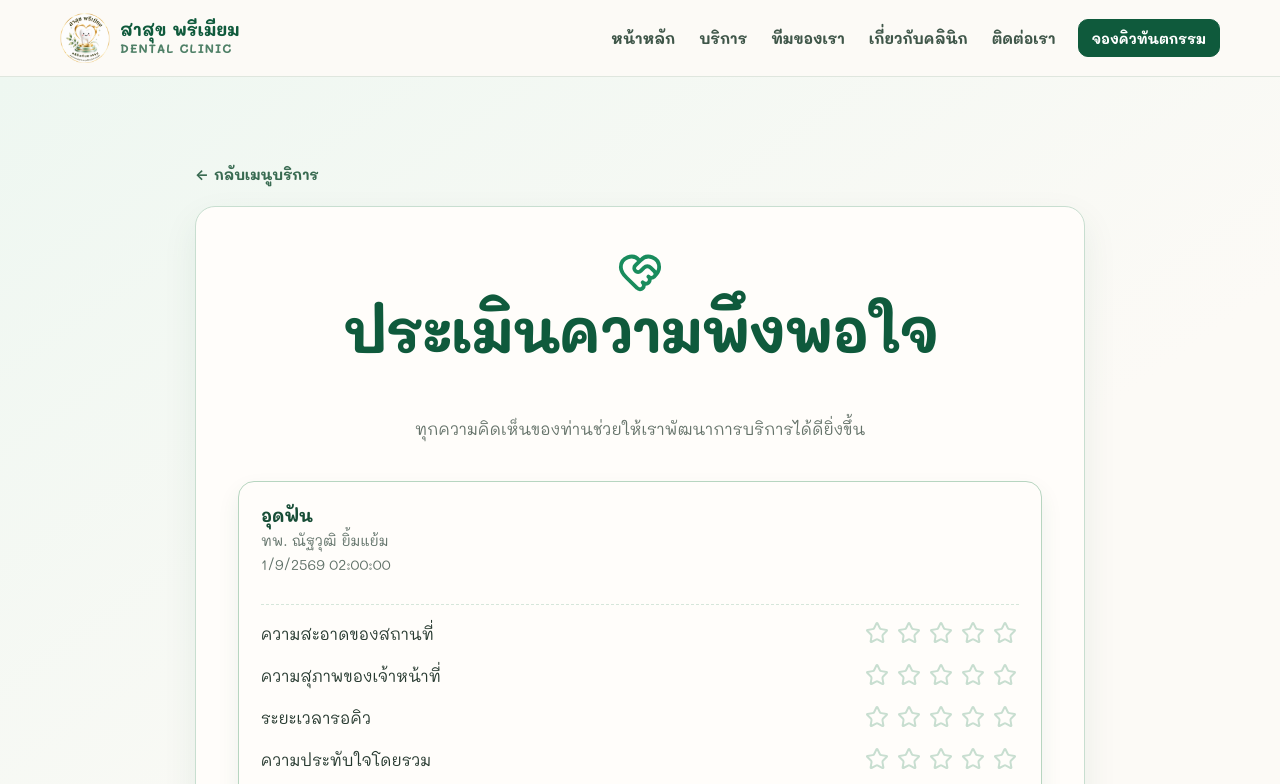
Test: clinic SPA › satisfaction survey (/patient/satisfaction) › lets a patient rate a dentist-bound visit including the dentist question, then shows it read-only
expect the text "อุดฟัน" is shown: met, box [261,504,313,526]
expect the button named "ดาว" is shown: met, box [863,619,891,647]
Click the button named "ความสะอาดของสถานที่ 4 ดาว".
click(973, 633)  # box [959,619,987,647]
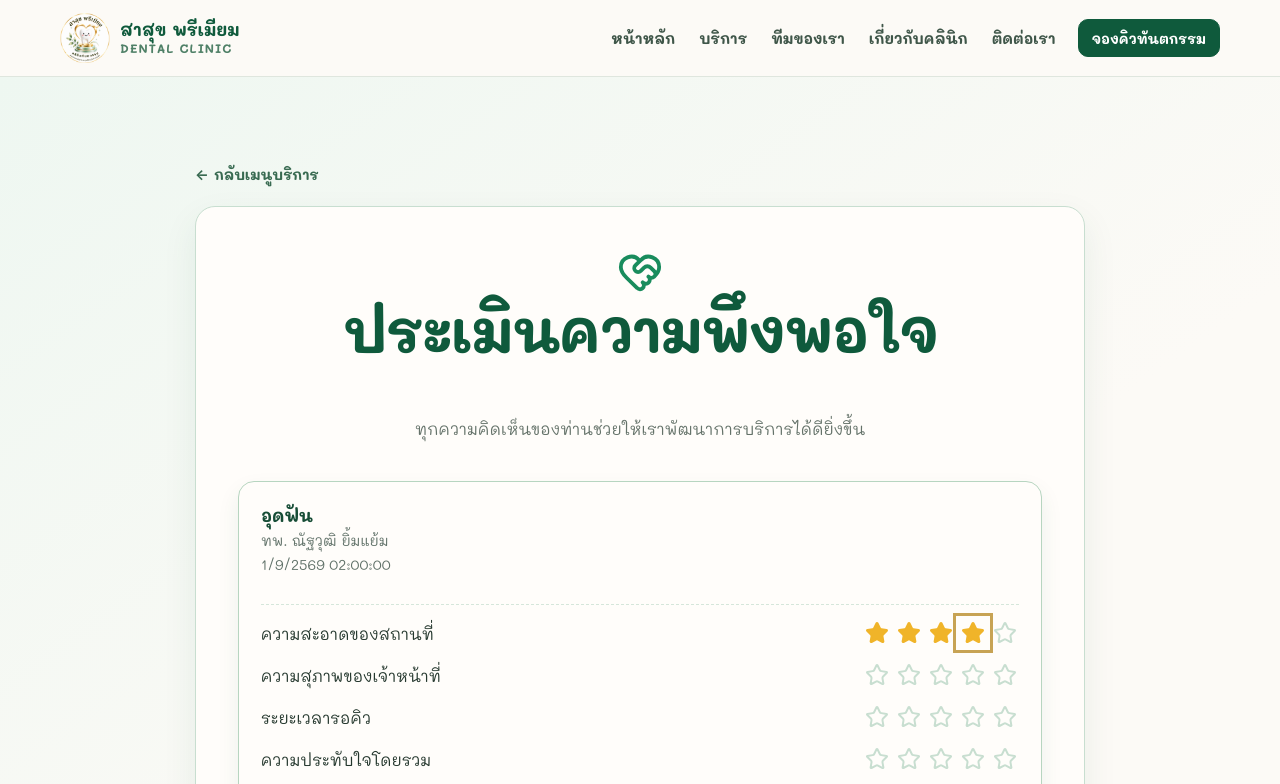
Click the button named "ความสุภาพของเจ้าหน้าที่ 5 ดาว".
click(1005, 675)  # box [991,661,1019,689]
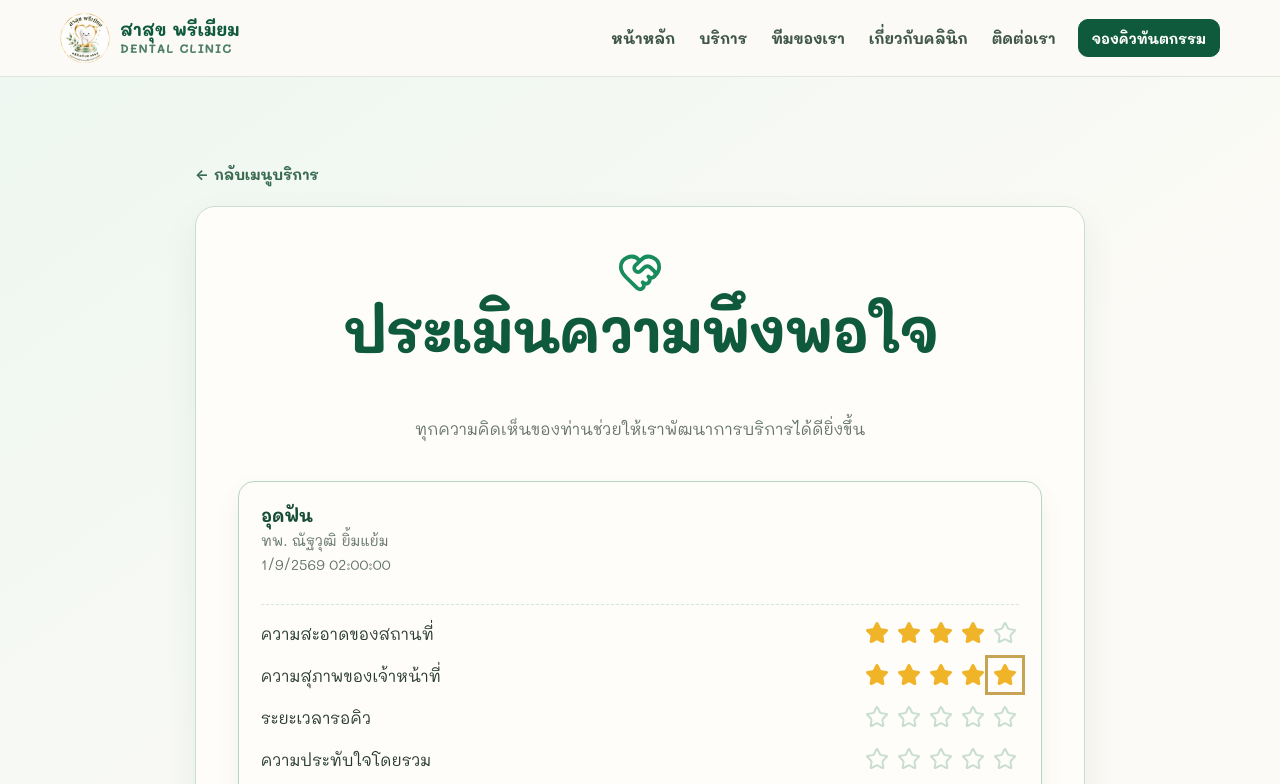
Click the button named "ระยะเวลารอคิว 3 ดาว".
click(941, 717)  # box [927,703,955,731]
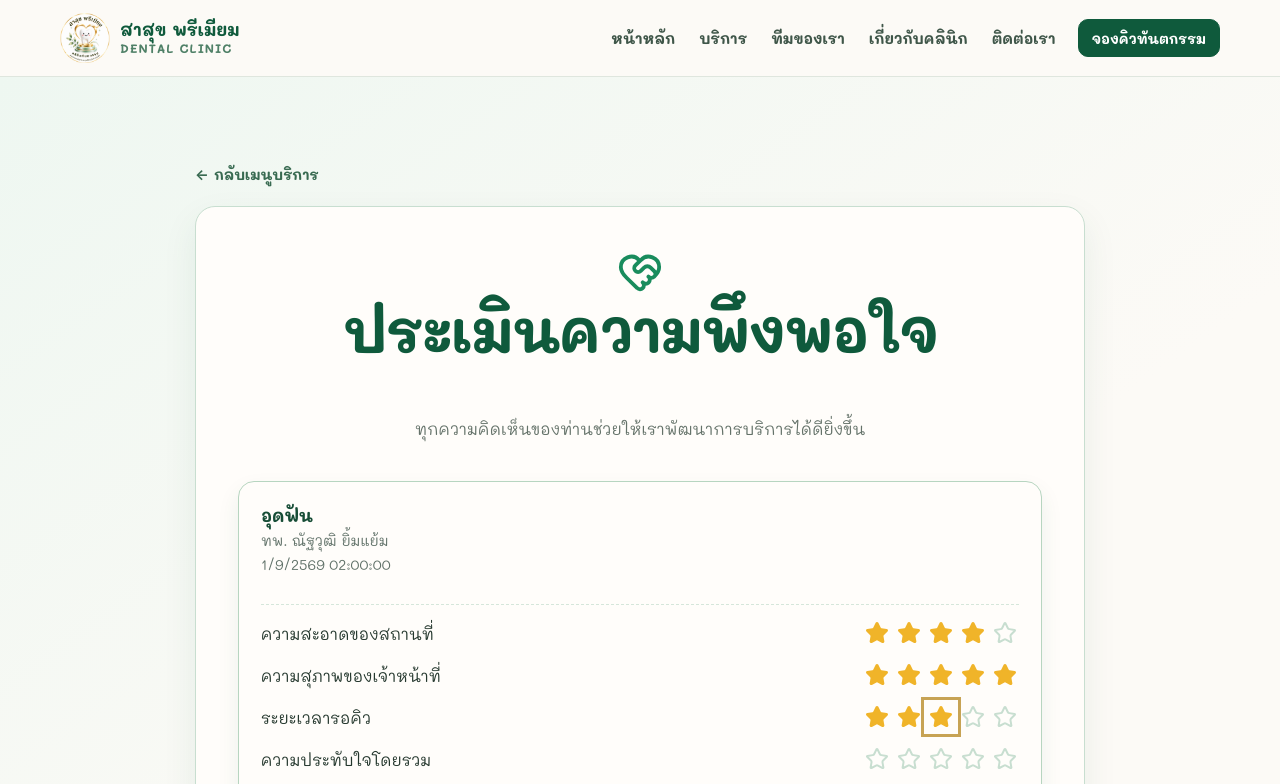
Click the button named "ความประทับใจโดยรวม 4 ดาว".
click(973, 759)  # box [959,745,987,773]
(page scrolled)
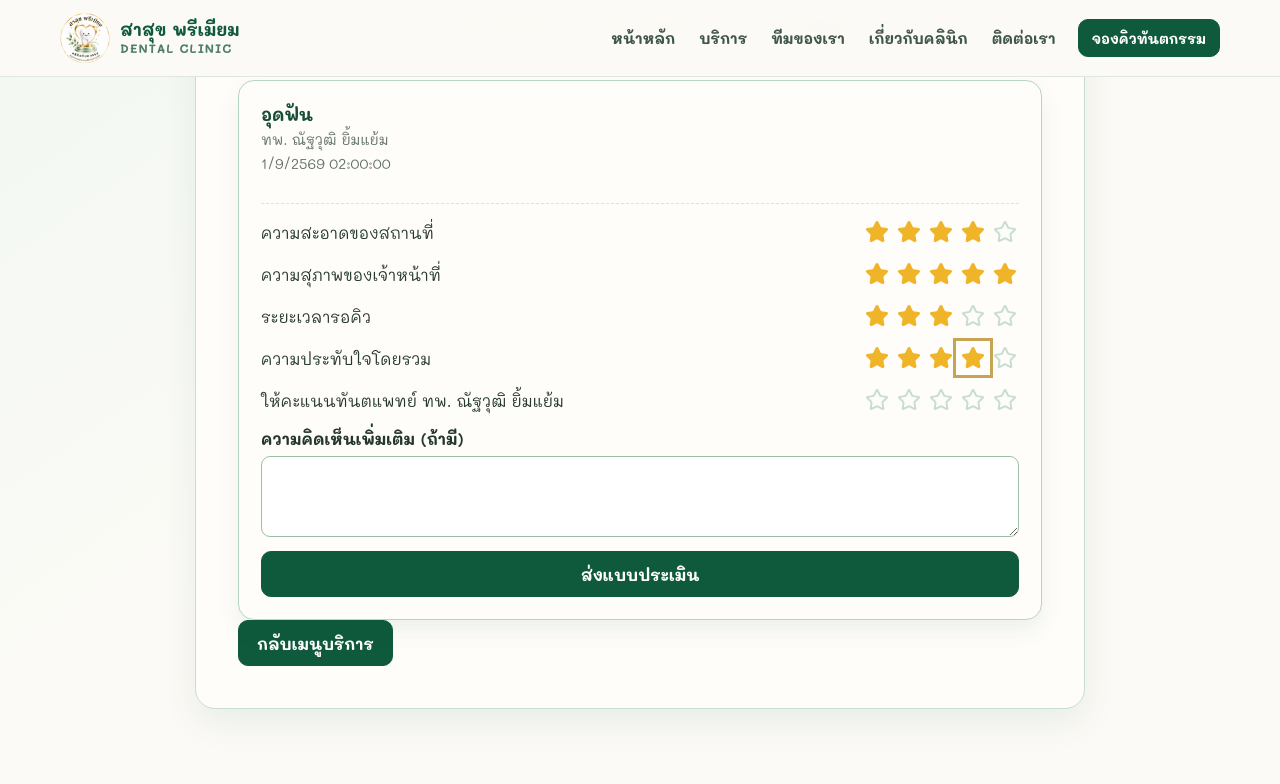
Click the button named "ให้คะแนนทันตแพทย์ ทพ. ณัฐวุฒิ ยิ้มแย้ม 5 ดาว".
click(1005, 400)  # box [991,386,1019,414]
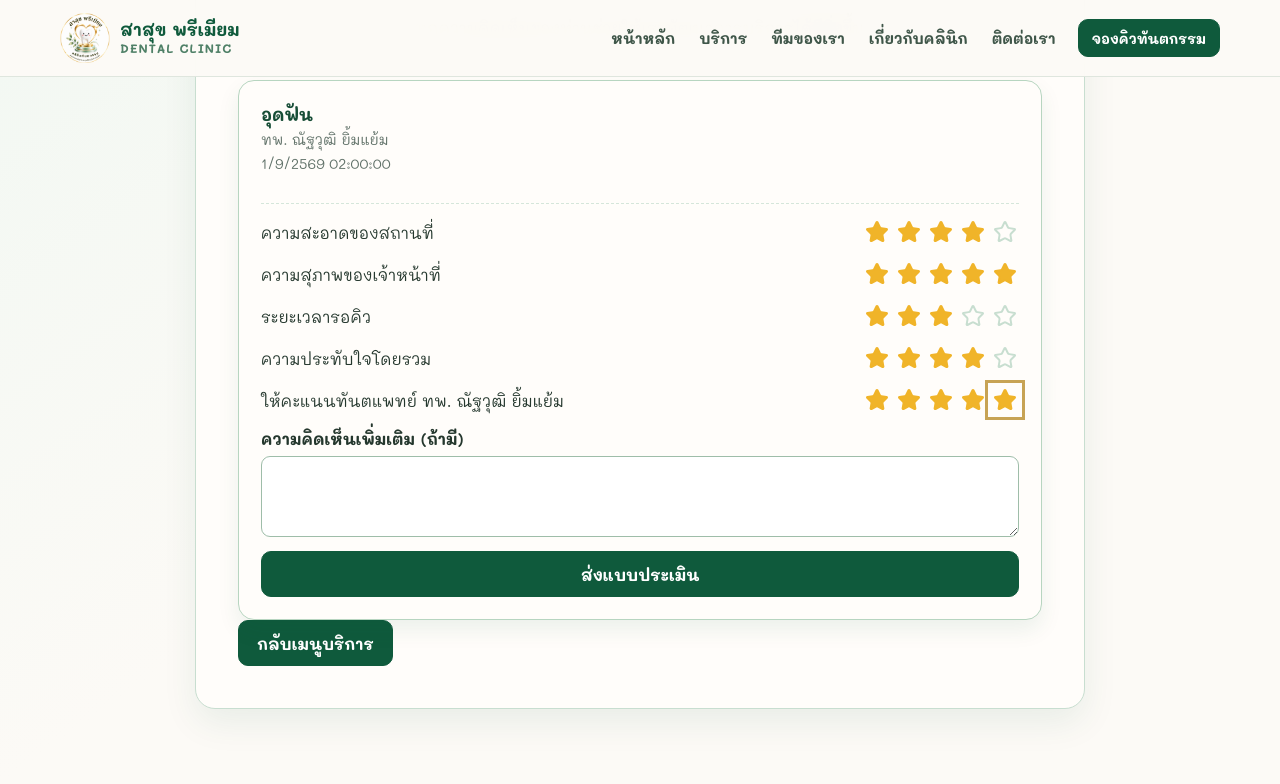
Type "ประทับใจมาก" into the text box labelled "ความคิดเห็นเพิ่มเติม (ถ้ามี)".
click(640, 497); type("ประทับใจมาก")  # box [261,456,1019,537]
Click the button "ส่งแบบประเมิน".
click(640, 574)  # box [261,551,1019,597]
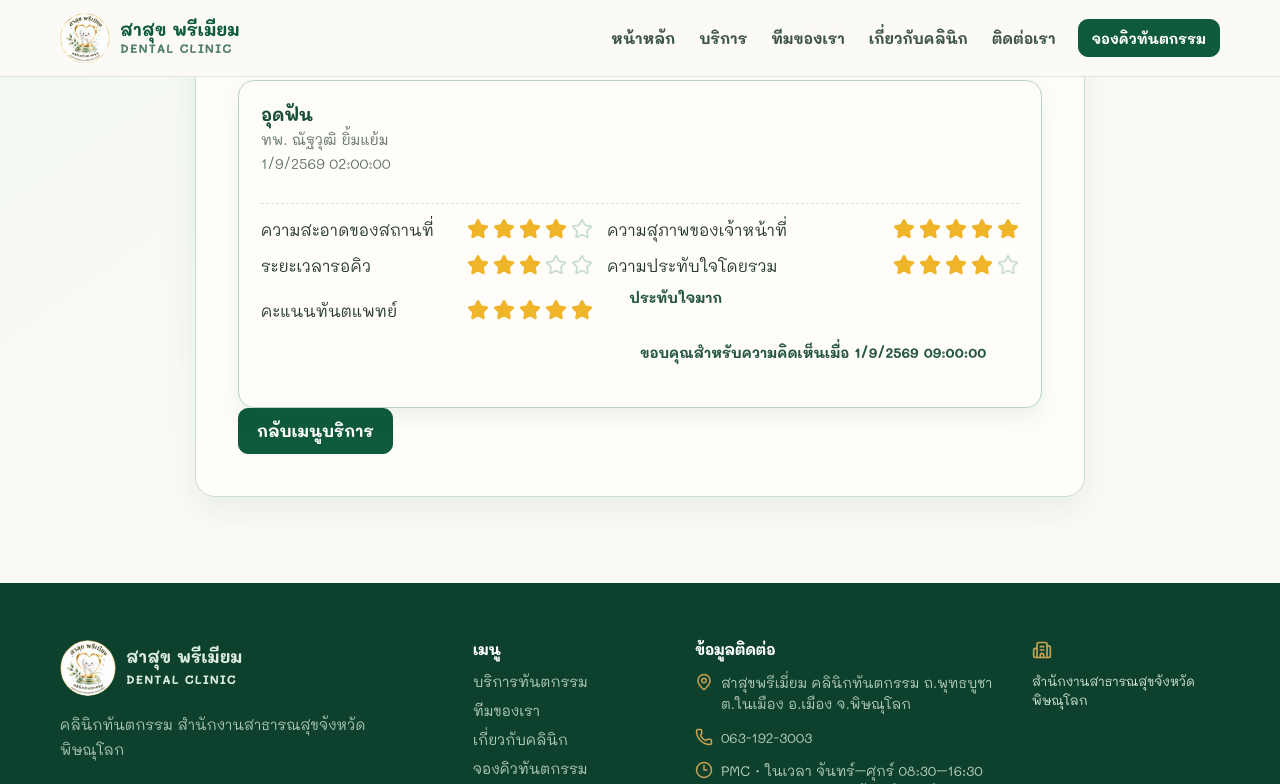
expect the text "ขอบคุณสำหรับความคิดเห็นเมื่อ 1/9/2569 09:00:00" is shown: met, box [629,340,997,365]
expect the button "ส่งแบบประเมิน" is gone: met
